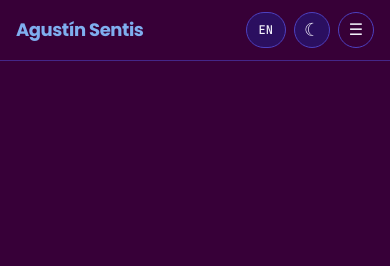
Test: Navbar › toggles the mobile menu and closes it on link click
The image size is (390, 266).
Click the button named "Abrir menú".
click(356, 30)  # box [338,12,374,48]
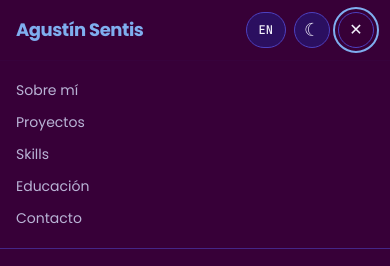
Check: the button named "Cerrar menú" is expanded, box [338,12,374,48]
Click the link "Skills".
click(33, 154)  # box [16,144,49,164]
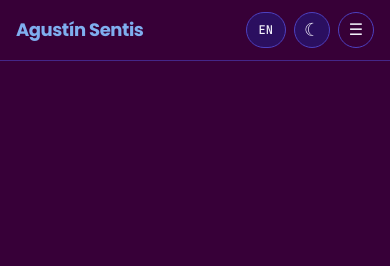
Check: the button named "Abrir menú" is collapsed, box [338,12,374,48]
